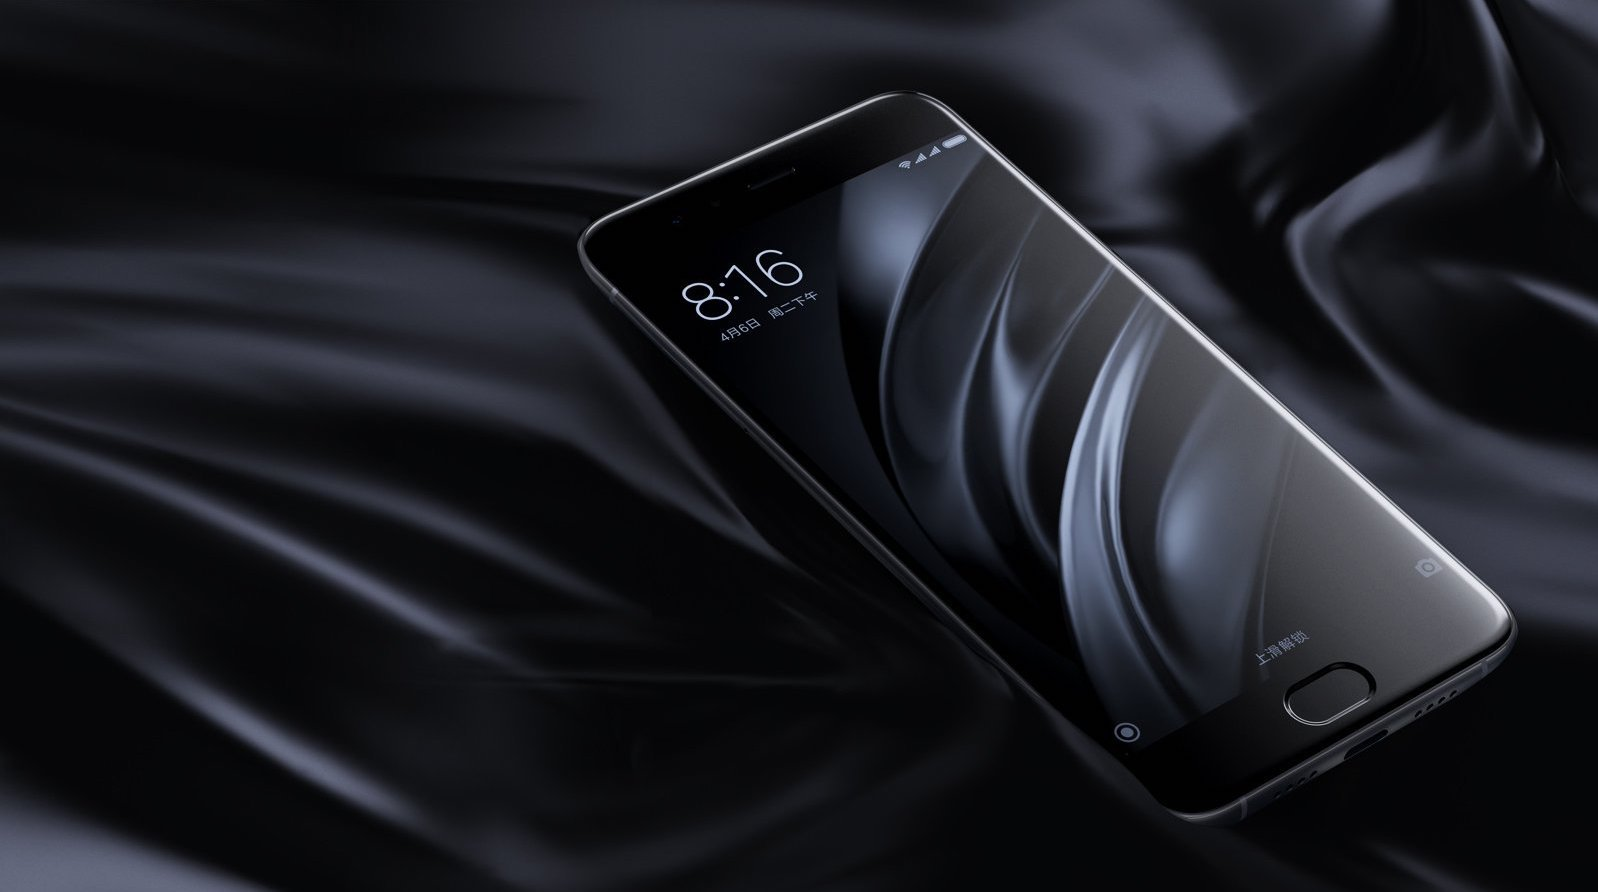smartphone: (577, 92, 1521, 842)
